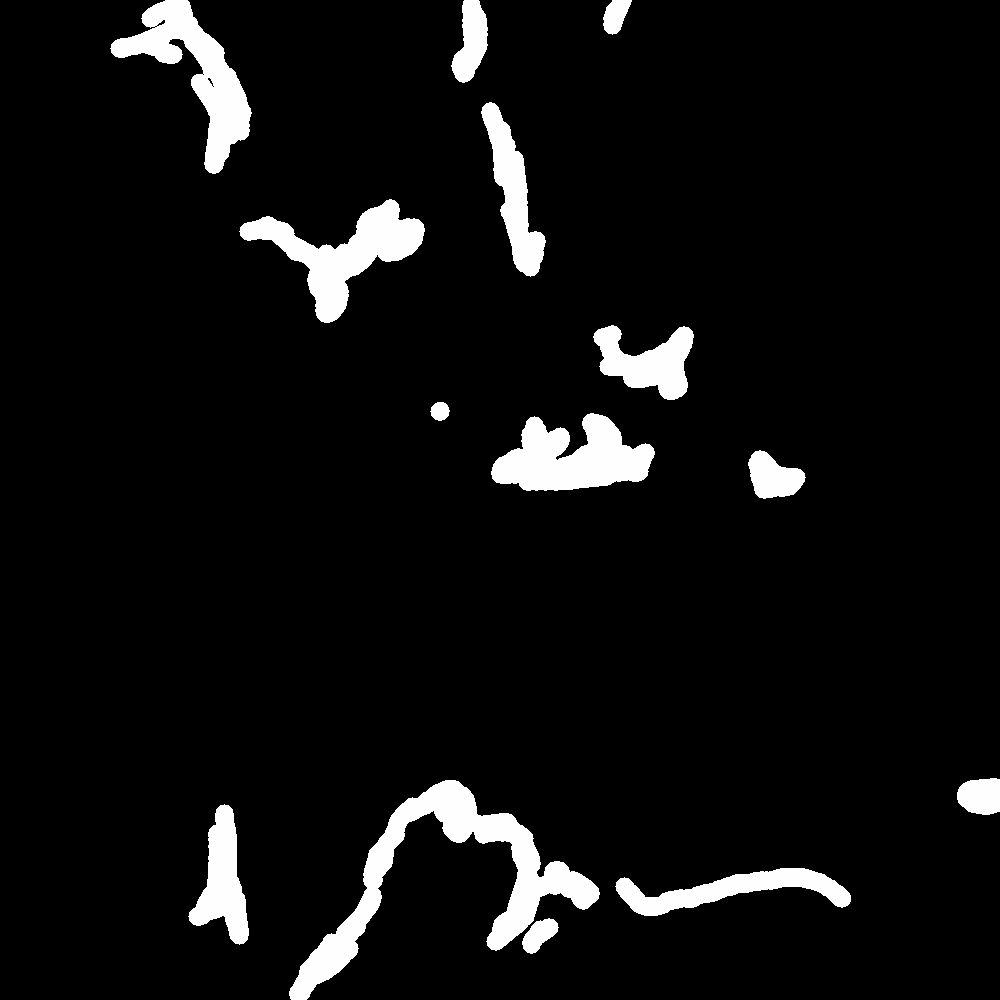illegal: (354, 769, 610, 960), (153, 1, 282, 180), (261, 206, 450, 314), (504, 415, 652, 501), (474, 111, 544, 284), (619, 866, 855, 915), (180, 799, 257, 944), (592, 321, 700, 400), (909, 775, 1000, 838), (288, 917, 355, 1000), (824, 895, 859, 1000), (451, 1, 491, 81), (751, 455, 804, 499)
